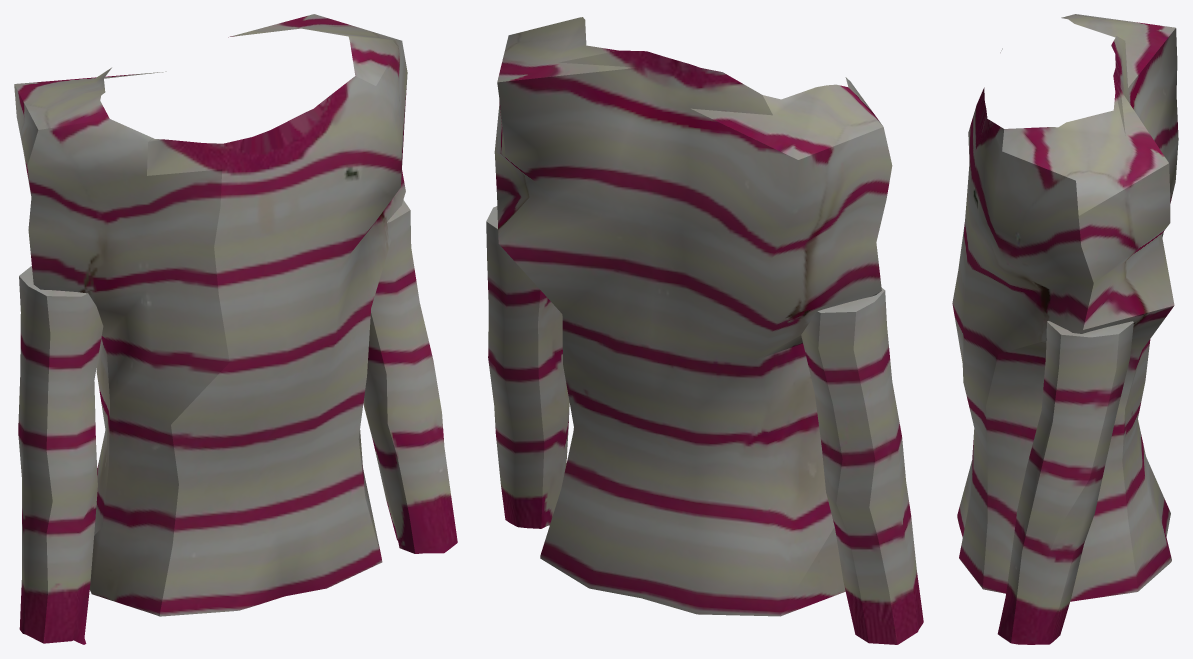
File: 027-shell.glb
3 renders of one model, left to right at view 1: azimuth 30°, elevation 25°; view 2: azimuth 150°, elevation 25°; view 3: azimuth 270°, elevation 25°, orthographic. The views are drawn at different scales.
Visible parts, largest first — view 1: geometry_0; view 2: geometry_0; view 3: geometry_0.
Part boxes in pixels (left/top/right/bottom): geometry_0: left=14, top=14, right=457, bottom=644; geometry_0: left=486, top=17, right=923, bottom=644; geometry_0: left=952, top=14, right=1178, bottom=644.
Size of the model in its own units: 0.5474 by 0.688 by 0.2764.
1 material, 1 textured.
